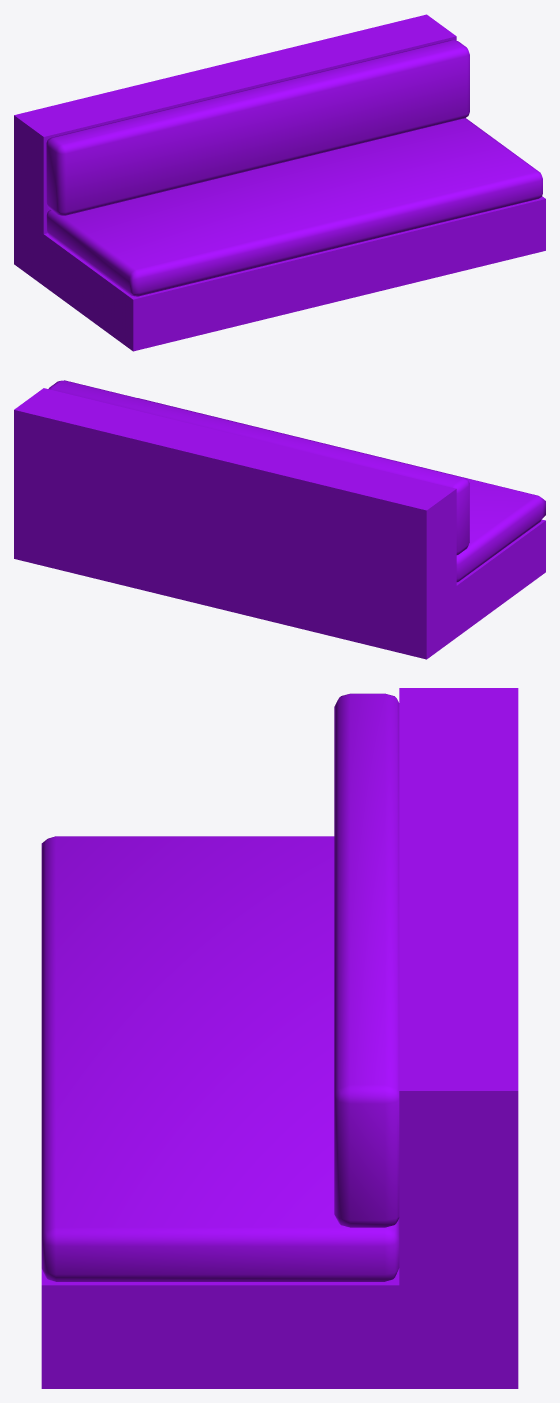
Rendered from Couch.fbx.
The picture shows the model from 3 angles, top to bottom: view 1: azimuth 30°, elevation 25°; view 2: azimuth 150°, elevation 25°; view 3: azimuth 270°, elevation 25°; orthographic projection. The views are drawn at different scales.
Parts seen in each view (by area): view 1: Couch; view 2: Couch; view 3: Couch.
Boxes of the visible parts, x1,y1,x2,y2 form: Couch: [14, 14, 545, 351]; Couch: [14, 380, 545, 659]; Couch: [41, 688, 518, 1388].
Size of the model in its own units: 200 by 70 by 100.
